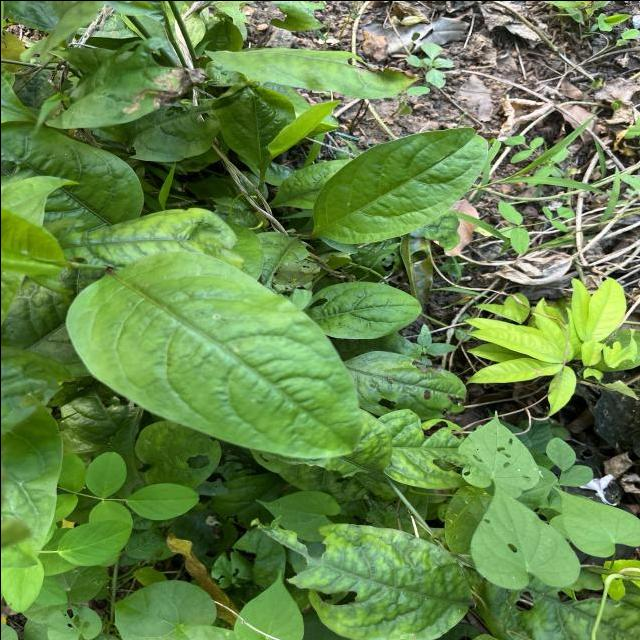Plumbago indica: (62, 243, 367, 464), (280, 519, 482, 640), (303, 120, 498, 244)
